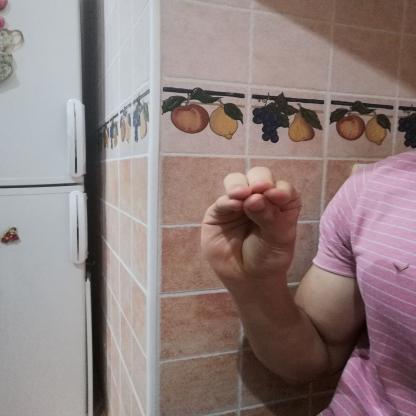HA: (181, 158, 321, 300)
